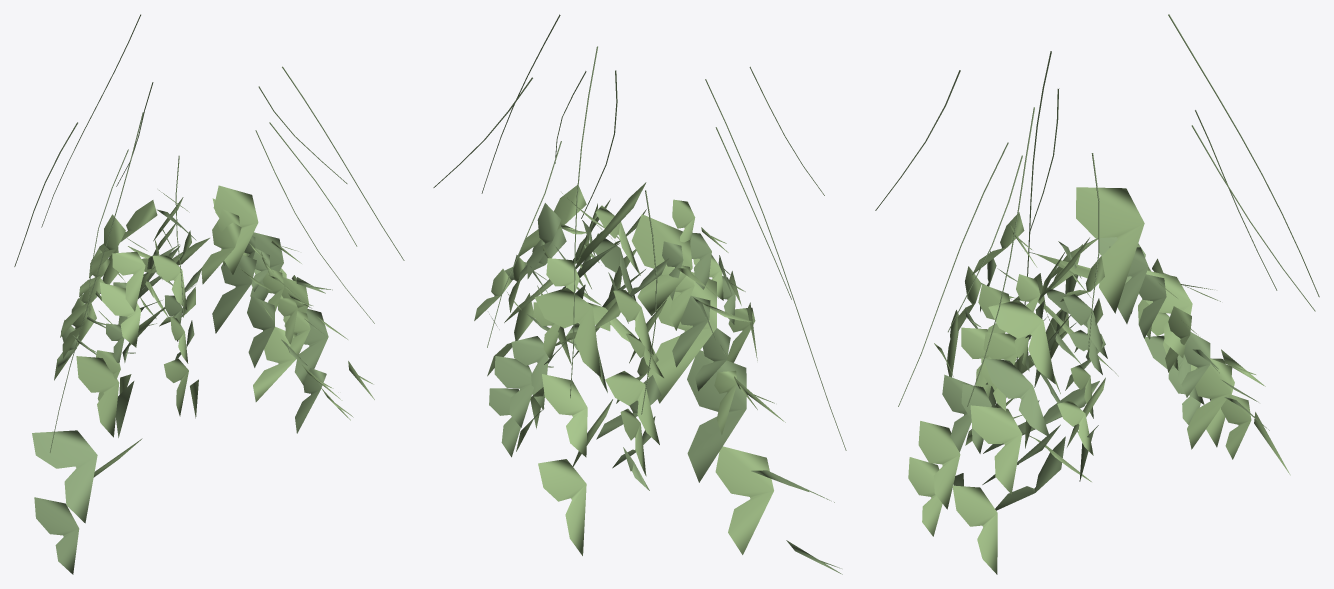
Rendered from bower-foliage.glb.
The picture shows the model from 3 angles, left to right: view 1: azimuth 30°, elevation 25°; view 2: azimuth 150°, elevation 25°; view 3: azimuth 270°, elevation 25°; orthographic projection. The views are drawn at different scales.
Visible parts, largest first — view 1: bower-foliage-mass, bower-foliage-spray; view 2: bower-foliage-mass, bower-foliage-spray; view 3: bower-foliage-mass, bower-foliage-spray.
Boxes of the visible parts, left/top/right/bottom form: bower-foliage-mass: left=14, top=82, right=374, bottom=433; bower-foliage-spray: left=32, top=14, right=404, bottom=574; bower-foliage-mass: left=433, top=66, right=824, bottom=490; bower-foliage-spray: left=481, top=14, right=846, bottom=574; bower-foliage-mass: left=875, top=70, right=1315, bottom=536; bower-foliage-spray: left=952, top=14, right=1319, bottom=574.
Size of the model in its own units: 2 by 2.71 by 1.87.
